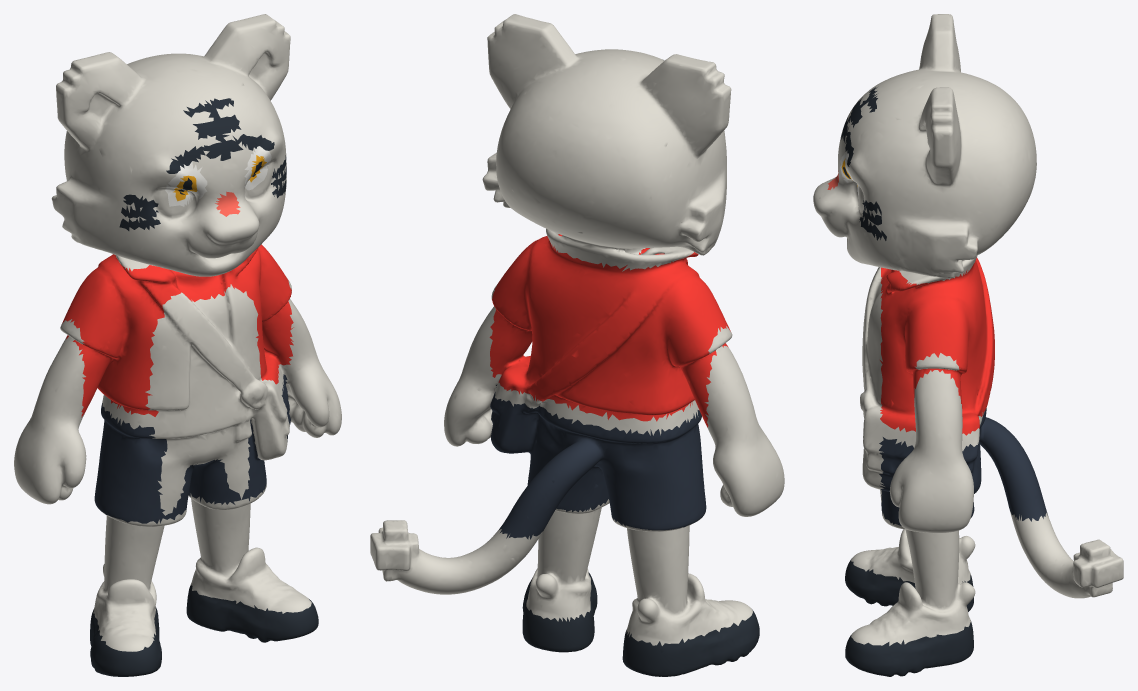
The model's file is tiger-companion-ar-v4.glb.
The picture shows the model from 3 angles, left to right: view 1: azimuth 30°, elevation 25°; view 2: azimuth 150°, elevation 25°; view 3: azimuth 270°, elevation 25°; orthographic projection. The views are drawn at different scales.
Parts seen in each view (by area): view 1: Tiger_NativeFace_Body.001; view 2: Tiger_NativeFace_Body.001; view 3: Tiger_NativeFace_Body.001.
Part boxes in pixels (x1=…): Tiger_NativeFace_Body.001: x1=14, y1=14, x2=341, y2=676; Tiger_NativeFace_Body.001: x1=370, y1=14, x2=784, y2=676; Tiger_NativeFace_Body.001: x1=813, y1=14, x2=1123, y2=676.
Bounding box in the file's own units: 1.08 × 1.99 × 0.9833.
